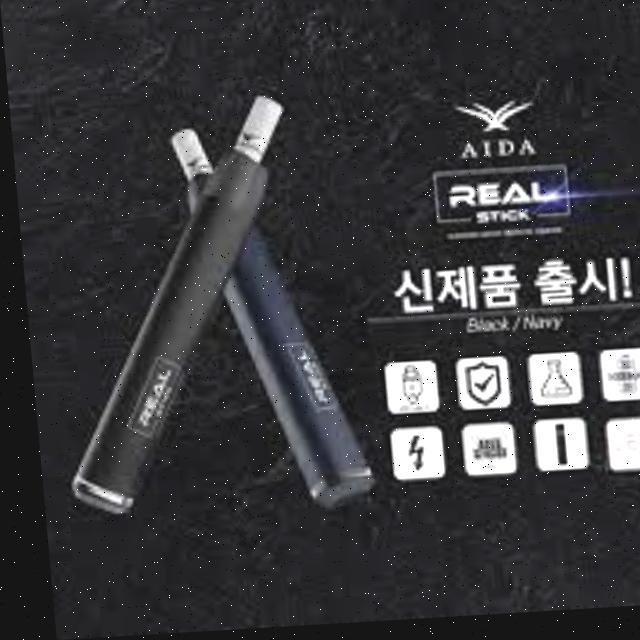vape: (33, 94, 313, 520), (167, 122, 370, 523)
